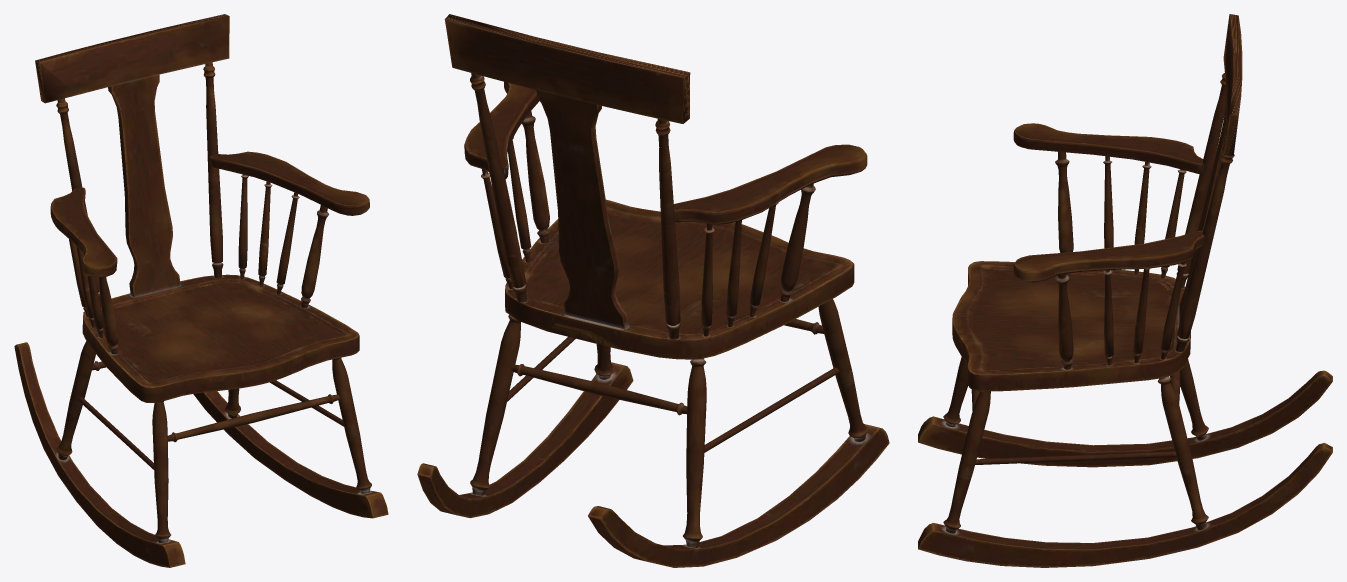
File: rockingchair_01.glb
3 renders of one model, left to right at view 1: azimuth 30°, elevation 25°; view 2: azimuth 150°, elevation 25°; view 3: azimuth 270°, elevation 25°, orthographic. The views are drawn at different scales.
Visible parts, largest first — view 1: Rockingchair_01; view 2: Rockingchair_01; view 3: Rockingchair_01.
Boxes of the visible parts, <box> form: Rockingchair_01: <box>14,14,388,567</box>; Rockingchair_01: <box>417,14,889,567</box>; Rockingchair_01: <box>918,14,1332,567</box>.
Size of the model in its own units: 0.7081 by 0.9949 by 0.8335.
1 material, 1 textured.
